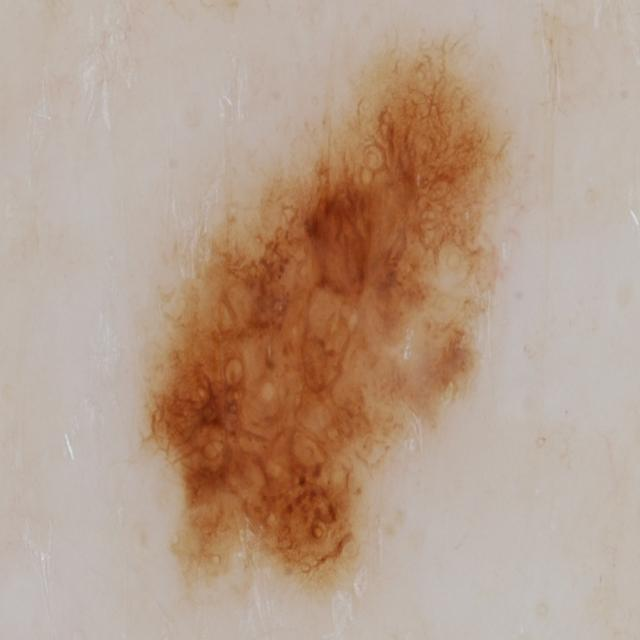Skin-Cancer Melanoma: (43, 8, 634, 640)
